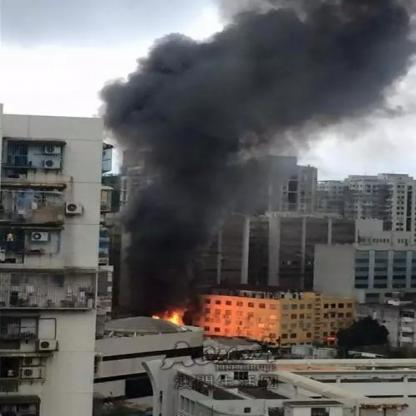fire: (144, 289, 277, 343)
smoke: (95, 0, 400, 276)
